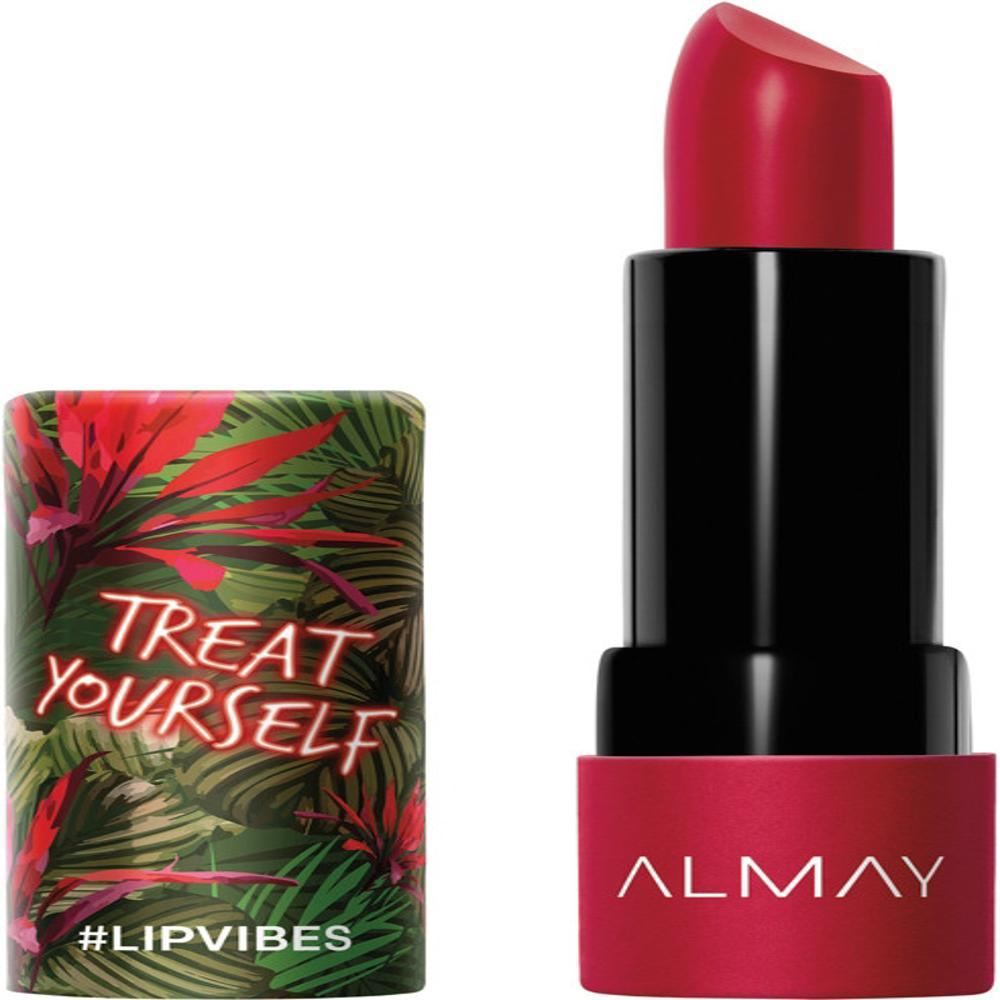lipstick: (534, 1, 1000, 995)
